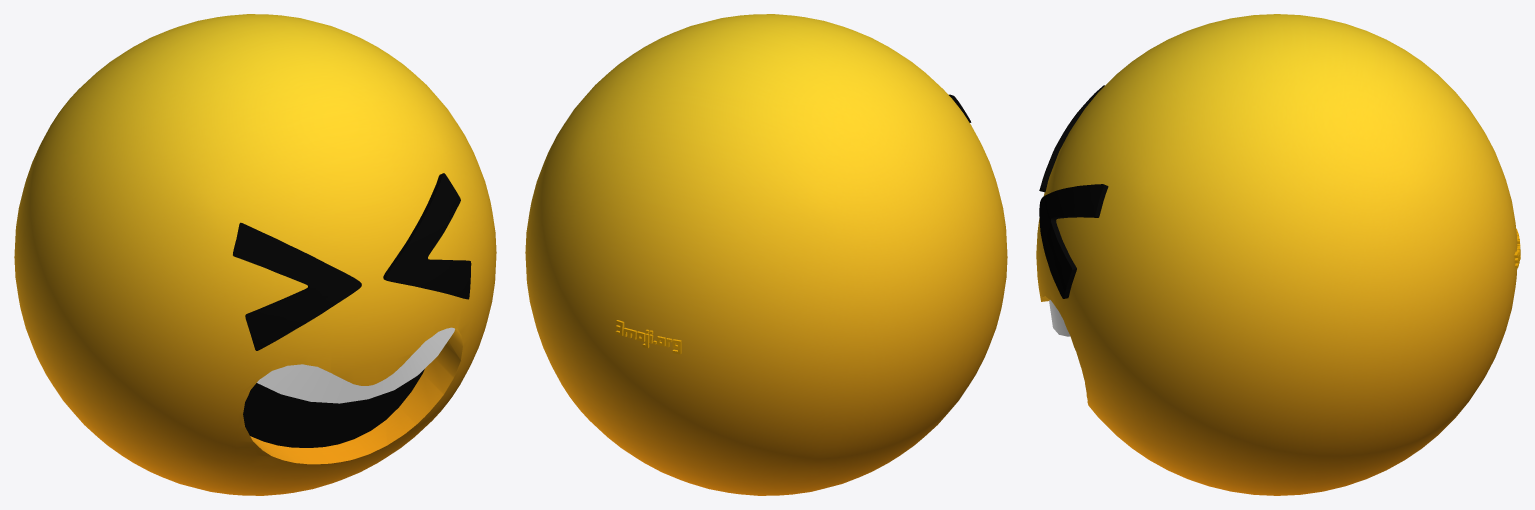
Rendered from grinning_sad_face.gltf.
The picture shows the model from 3 angles, left to right: view 1: azimuth 30°, elevation 25°; view 2: azimuth 150°, elevation 25°; view 3: azimuth 270°, elevation 25°; orthographic projection.
Visible parts, largest first — view 1: Grinning Squinting Face; view 2: Grinning Squinting Face; view 3: Grinning Squinting Face.
Boxes of the visible parts, box(x1,y1,x2,y2) form: Grinning Squinting Face: box(14, 14, 496, 495); Grinning Squinting Face: box(525, 14, 1007, 495); Grinning Squinting Face: box(1036, 14, 1520, 495).
Bounding box in the file's own units: 1.69 × 1.69 × 1.7.
Materials: 2 (2 with a texture image).
